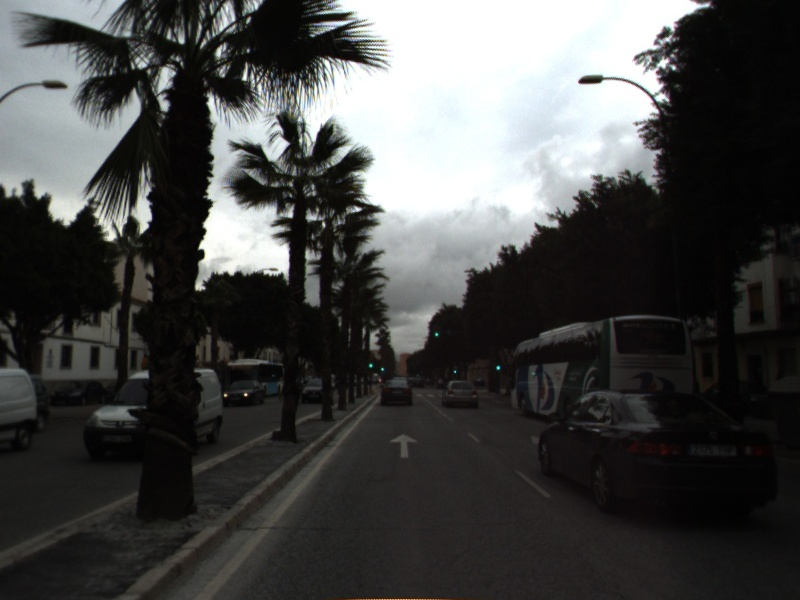STRAIGHT: (388, 431, 421, 460)
